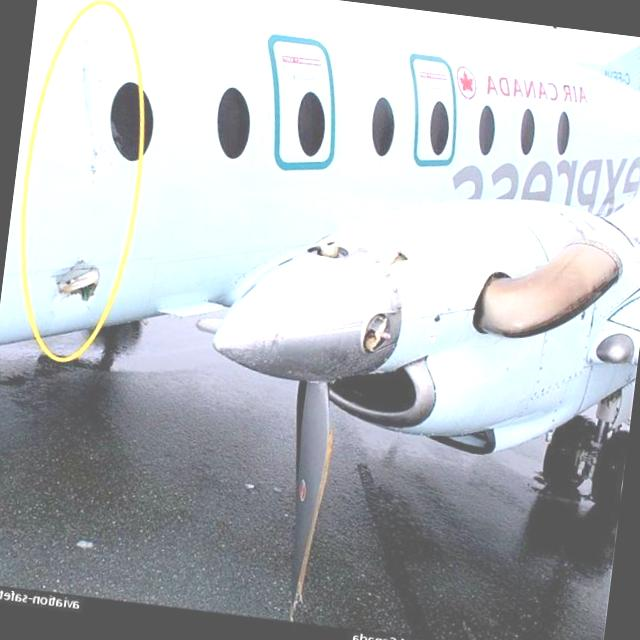crack: (54, 260, 99, 302), (74, 288, 97, 314)
dent: (40, 289, 62, 334)
